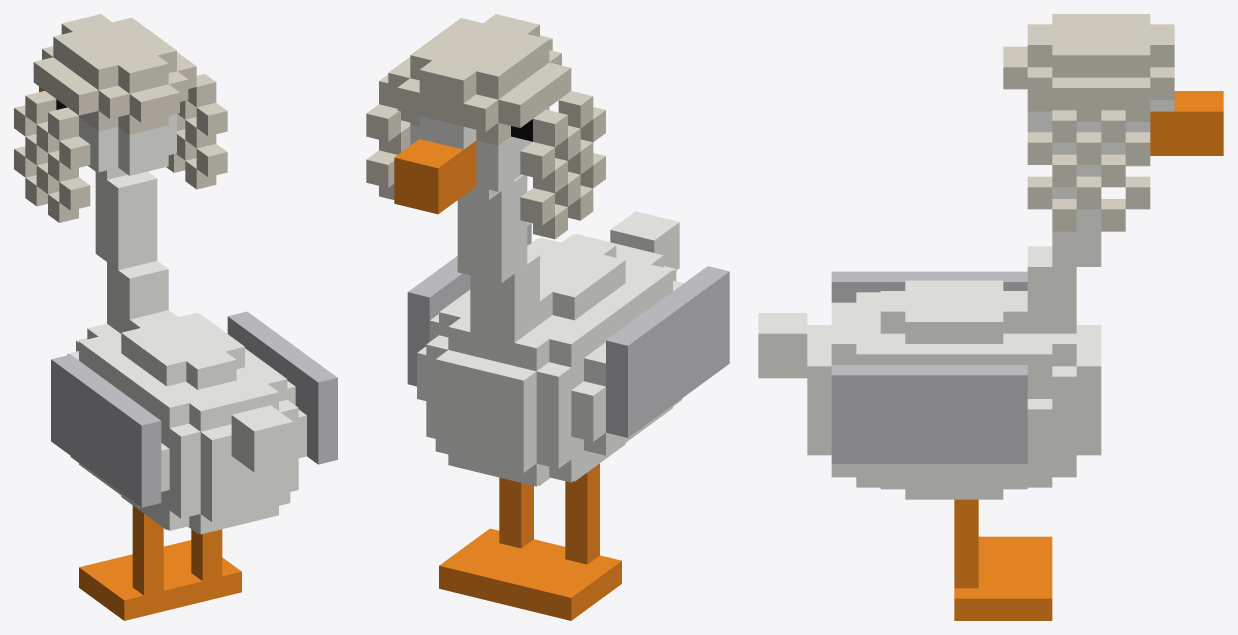
The model's file is ganso_juez.obj.
3 renders of one model, left to right at view 1: azimuth 30°, elevation 25°; view 2: azimuth 150°, elevation 25°; view 3: azimuth 270°, elevation 25°, orthographic. The views are drawn at different scales.
Parts seen in each view (by area): view 1: cuerpo, alas, peluca, rizos, cuello, pies, cabeza, patas, cola; view 2: cuerpo, alas, peluca, rizos, cuello, pies, patas, pico, cabeza, cola; view 3: cuerpo, alas, peluca, rizos, pies, cuello, pico, cola, cabeza, patas.
Boxes of the visible parts, x1,y1,x2,y2 form: cuerpo: [67, 310, 306, 534]; alas: [51, 311, 337, 507]; peluca: [33, 14, 196, 134]; rizos: [14, 74, 227, 222]; cuello: [95, 171, 168, 333]; pies: [79, 540, 241, 620]; cabeza: [79, 114, 176, 179]; patas: [132, 505, 222, 595]; cola: [231, 405, 293, 472]; cuerpo: [417, 234, 683, 486]; alas: [407, 222, 729, 437]; peluca: [388, 14, 571, 145]; rizos: [366, 74, 605, 239]; cuello: [457, 174, 539, 365]; pies: [439, 528, 621, 620]; patas: [499, 463, 599, 564]; pico: [394, 139, 476, 214]; cabeza: [410, 109, 549, 199]; cola: [610, 211, 679, 270]; cuerpo: [807, 280, 1101, 499]; alas: [831, 271, 1027, 463]; peluca: [1003, 14, 1174, 121]; rizos: [1027, 110, 1150, 231]; pies: [954, 536, 1052, 620]; cuello: [1027, 187, 1101, 333]; pico: [1150, 91, 1223, 155]; cola: [758, 313, 807, 378]; cabeza: [1027, 100, 1174, 176]; patas: [954, 499, 978, 588].
Size of the model in its own units: 0.4 by 1 by 0.76.
